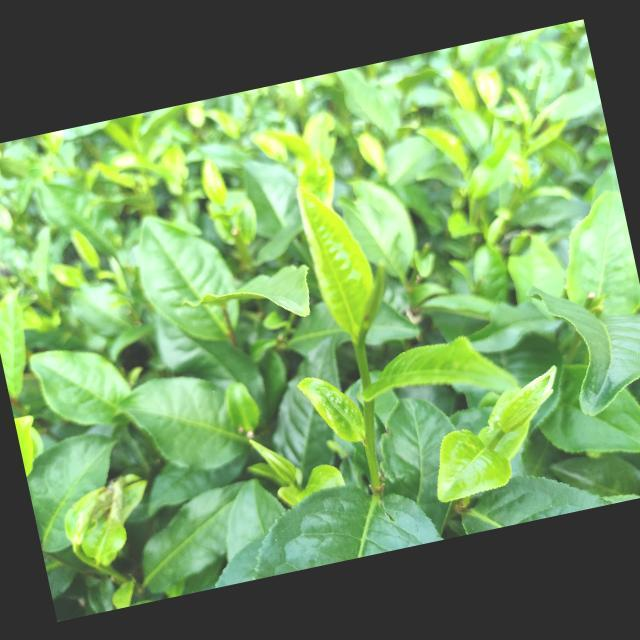Stem: (356, 347, 366, 359)
